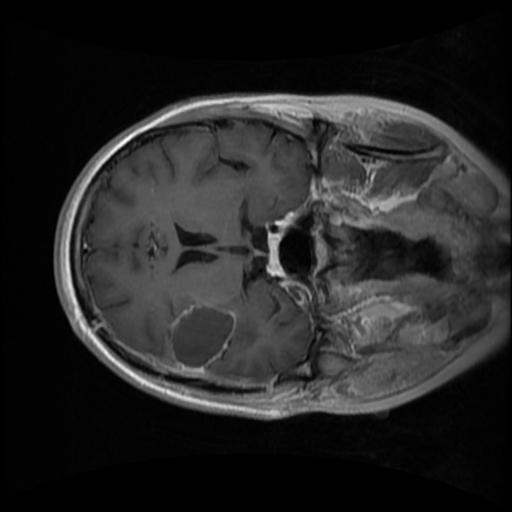glioma: (166, 305, 234, 368)
